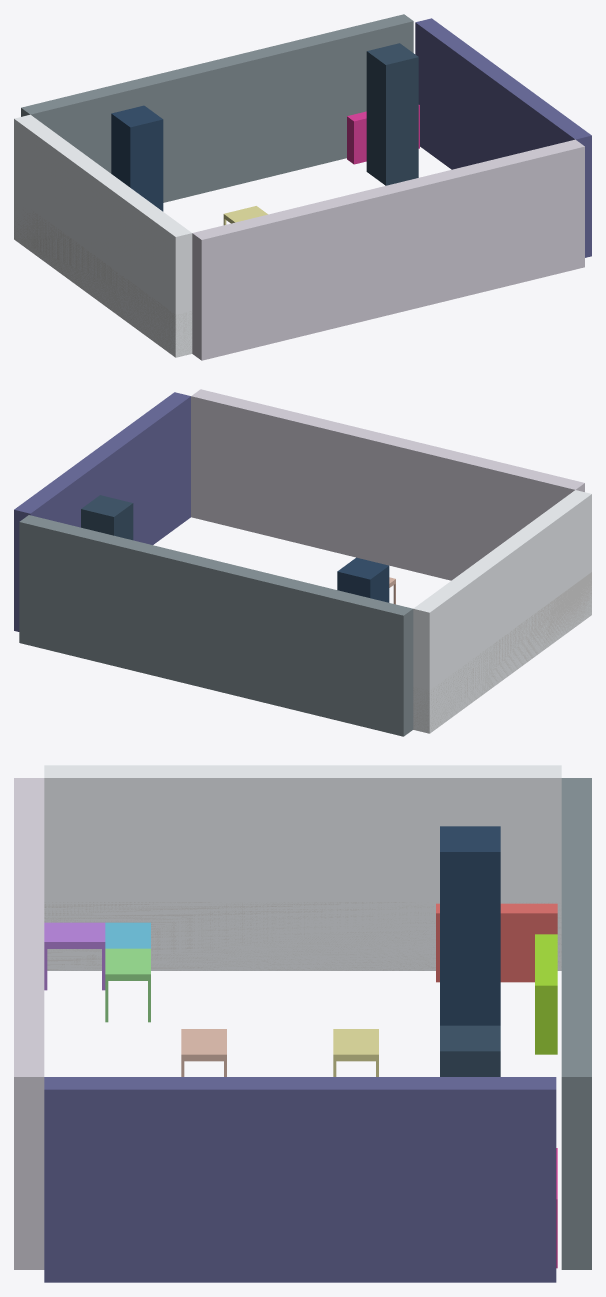
3 views of the same model, one above another, from view 1: azimuth 30°, elevation 25°; view 2: azimuth 150°, elevation 25°; view 3: azimuth 270°, elevation 25° (orthographic). The views are drawn at different scales.
Parts seen in each view (by area): view 1: Cube, Cube.001, Cube.003, Cube.004, Cube.009, Cube.002, Cube.008, Cube.011, Cube.016; view 2: Cube.001, Cube, Cube.003, Cube.004, Cube.002, Cube.009, Cube.008; view 3: Cube.004, Cube.003, Cube.001, Cube, Cube.008, Cube.002, Cube.006, Cube.009, Cube.010, Cube.012, Cube.015, Cube.017 (+2 smaller).
Part boxes in pixels (x1,y1,x2,y2): Cube: (192,139,584,360); Cube.001: (21,14,413,202); Cube.003: (14,114,192,357); Cube.004: (415,18,591,257); Cube.009: (366,43,418,185); Cube.002: (14,210,192,357); Cube.008: (111,105,163,211); Cube.011: (347,105,419,164); Cube.016: (223,206,267,225); Cube.001: (19,515,413,736); Cube: (191,389,584,580); Cube.003: (413,490,591,733); Cube.004: (14,392,190,631); Cube.002: (413,572,591,733); Cube.009: (81,495,133,540); Cube.008: (337,557,389,602); Cube.004: (44,1077,556,1282); Cube.003: (44,765,561,970); Cube.001: (561,778,591,1269); Cube: (14,778,44,1269); Cube.008: (440,826,500,1025); Cube.002: (44,902,561,970); Cube.006: (436,903,557,982); Cube.009: (440,1025,500,1076); Cube.010: (535,934,557,1054); Cube.012: (44,922,105,990); Cube.015: (105,948,150,1022); Cube.017: (181,1029,226,1076).
Size of the model in its own units: 20.2 by 15.2 by 5.6.
